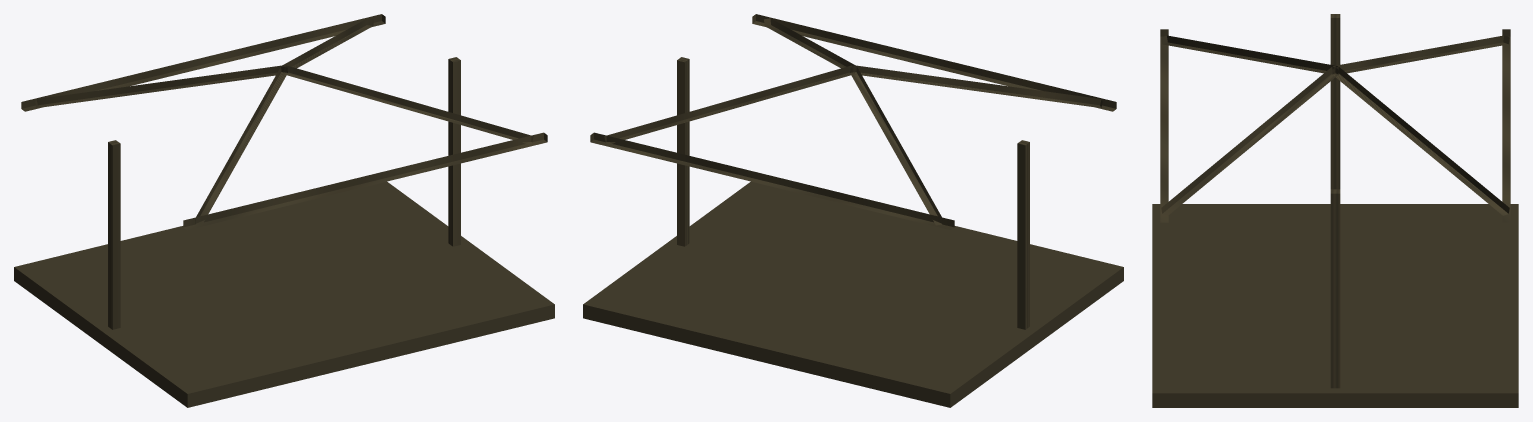
Rendered from env_tent_militia_med_a.glb.
The picture shows the model from 3 angles, left to right: view 1: azimuth 30°, elevation 25°; view 2: azimuth 150°, elevation 25°; view 3: azimuth 270°, elevation 25°; orthographic projection. The views are drawn at different scales.
Visible parts, largest first — view 1: env_tent_militia_med_a; view 2: env_tent_militia_med_a; view 3: env_tent_militia_med_a.
Part boxes in pixels (bbox=[...]): env_tent_militia_med_a: bbox=[14, 14, 554, 407]; env_tent_militia_med_a: bbox=[583, 14, 1123, 407]; env_tent_militia_med_a: bbox=[1152, 14, 1518, 407].
Size of the model in its own units: 5.5 by 3.39 by 4.5.
1 material, 1 textured.
